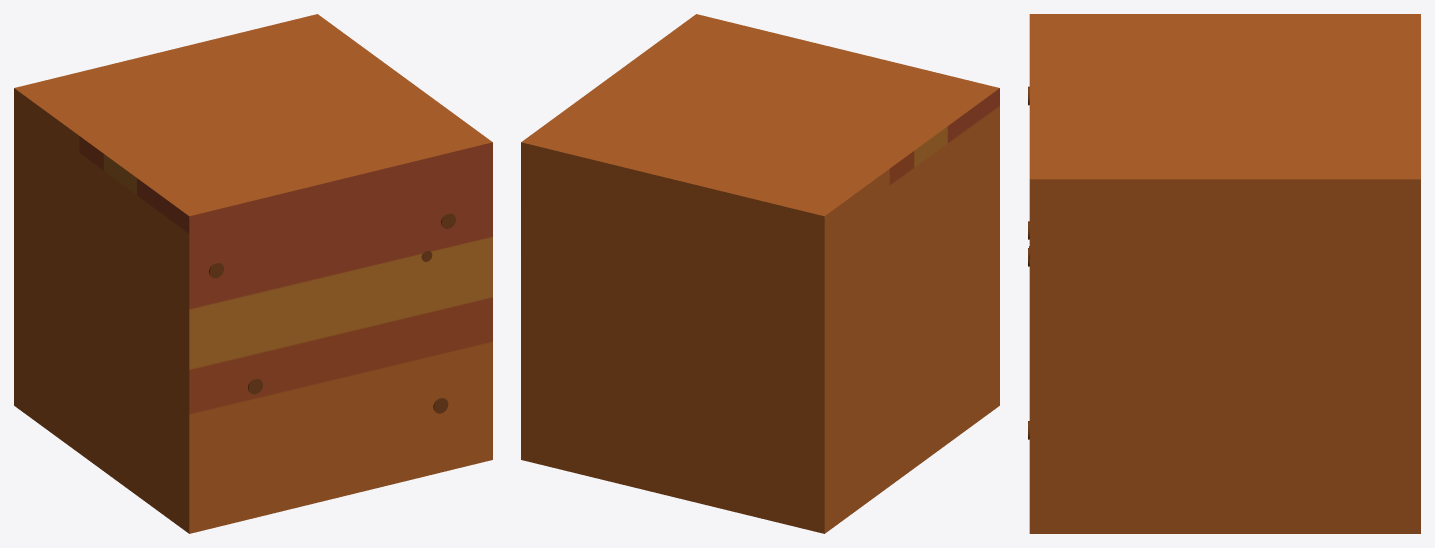
The model's file is soilBlock.obj.
The picture shows the model from 3 angles, left to right: view 1: azimuth 30°, elevation 25°; view 2: azimuth 150°, elevation 25°; view 3: azimuth 270°, elevation 25°; orthographic projection. The views are drawn at different scales.
Parts seen in each view (by area): view 1: Cube; view 2: Cube; view 3: Cube.
Part boxes in pixels (bbox=[...]): Cube: bbox=[14, 14, 492, 533]; Cube: bbox=[521, 14, 999, 533]; Cube: bbox=[1028, 14, 1420, 533].
Bounding box in the file's own units: 2 × 2 × 2.01.
1 material, 1 textured.
